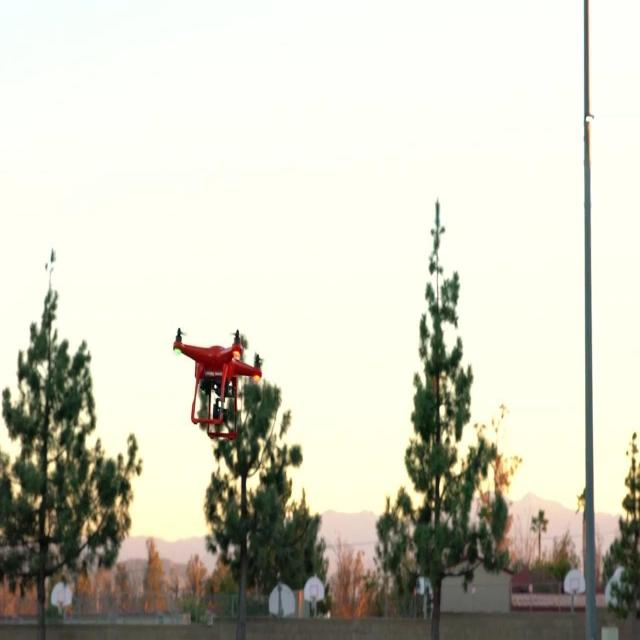drone: (172, 324, 264, 442)
